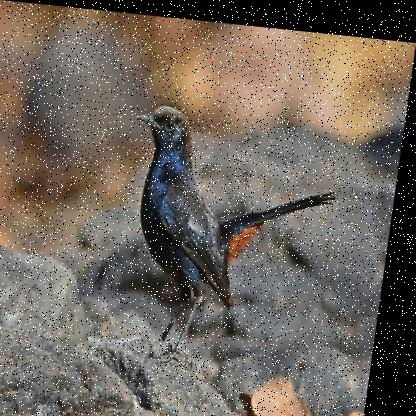Burung: (115, 98, 349, 369)
